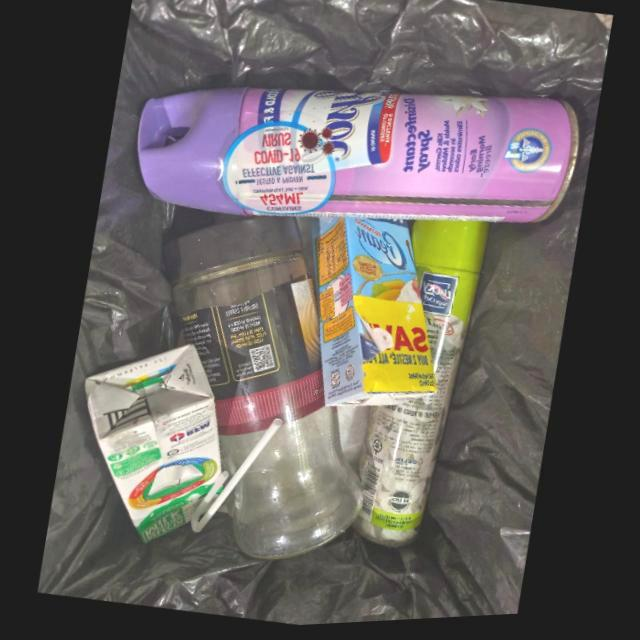aluminum: (135, 86, 580, 228), (352, 222, 488, 550)
plastic_container: (162, 218, 362, 562)
